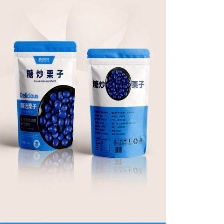snack: (6, 34, 81, 154), (81, 43, 155, 162)
